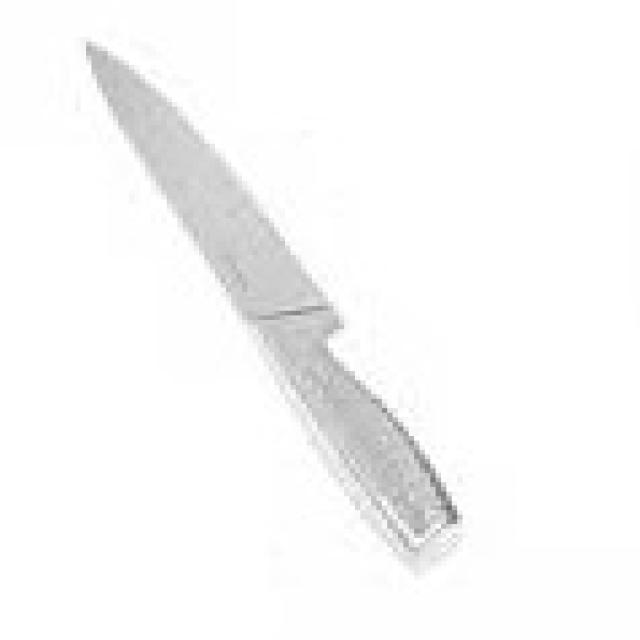knife: (81, 27, 467, 582)
